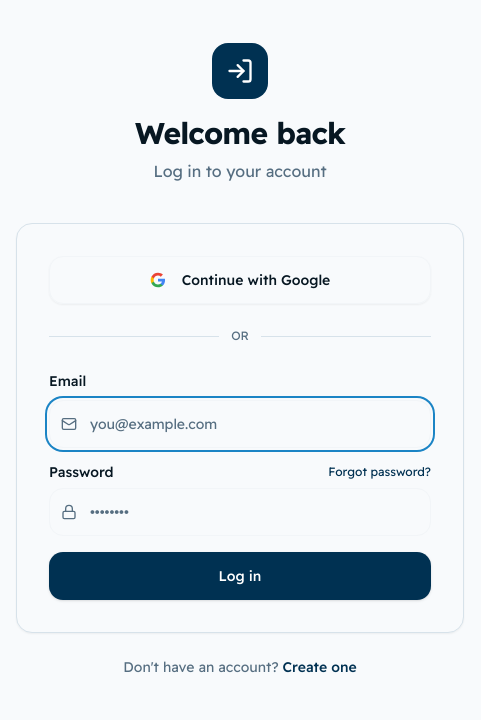
post-login redirect › a plain bad-credentials error stays on the login page with the message
The width and height of the screenshot is (481, 720).
In the field labelled "Email": (240, 424) x1=49 y1=400 x2=431 y2=448, type "sara@example.com"
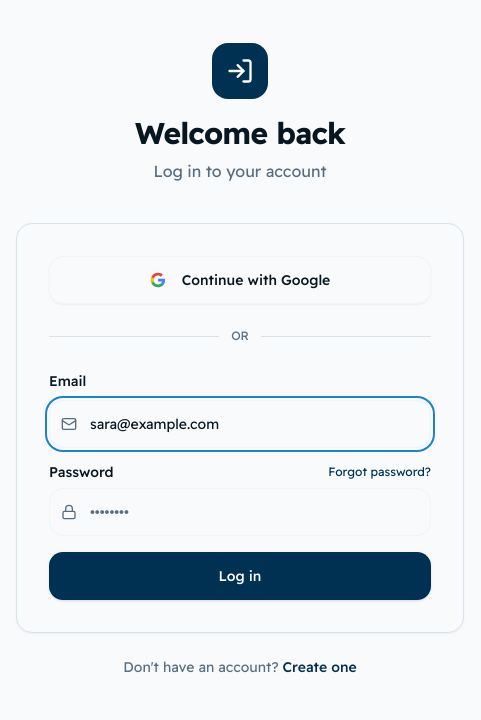
In the password field labelled "Password": (240, 512) x1=49 y1=488 x2=431 y2=536, type "s3cret!"
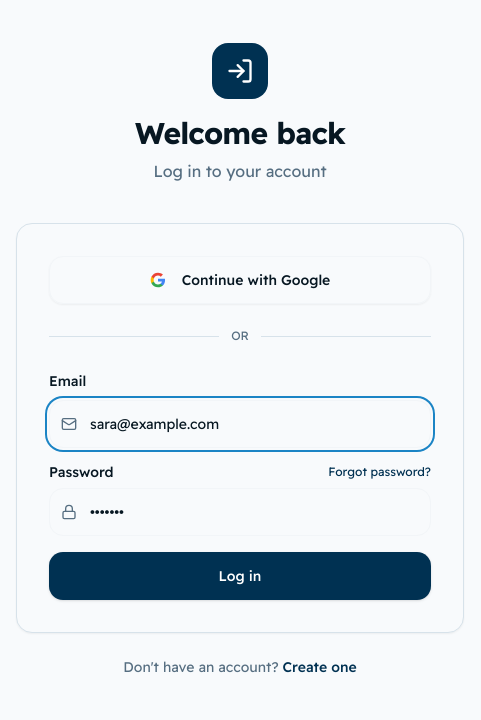
Click the button "Log in": (240, 576) x1=49 y1=552 x2=431 y2=600
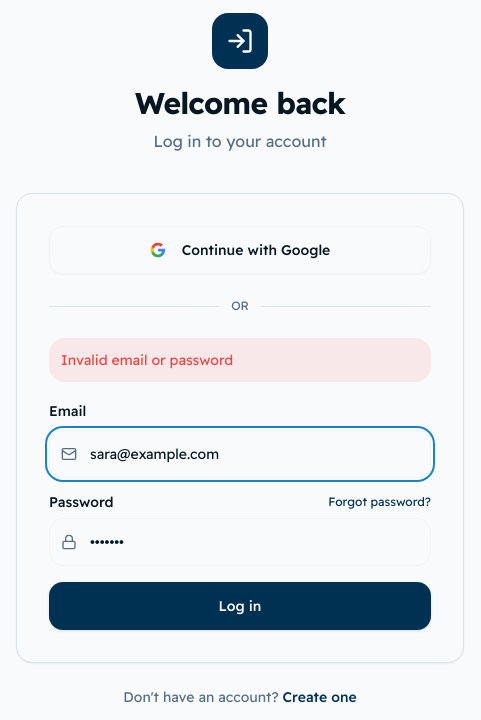
Check: the text "Invalid email or password" is shown, box x1=49 y1=338 x2=431 y2=382
